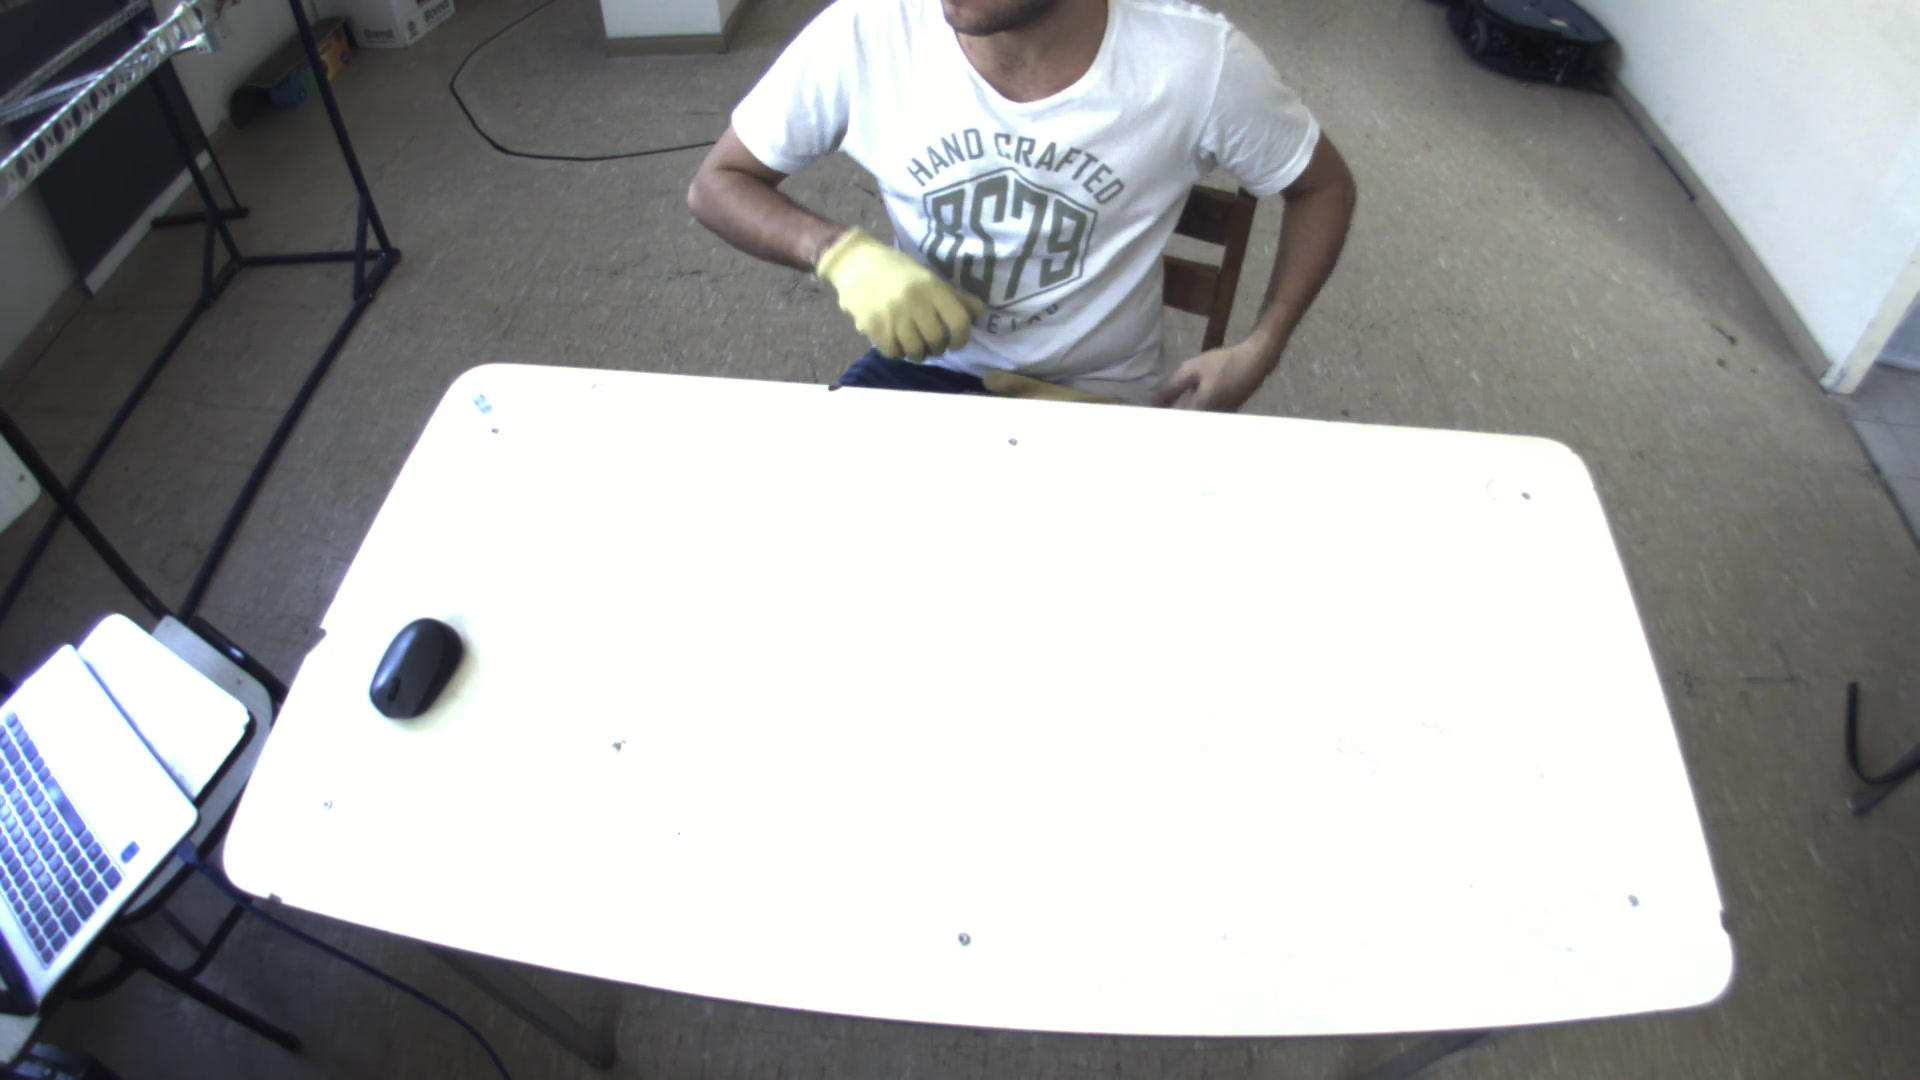hand: (804, 216, 986, 363), (1153, 309, 1292, 414)
